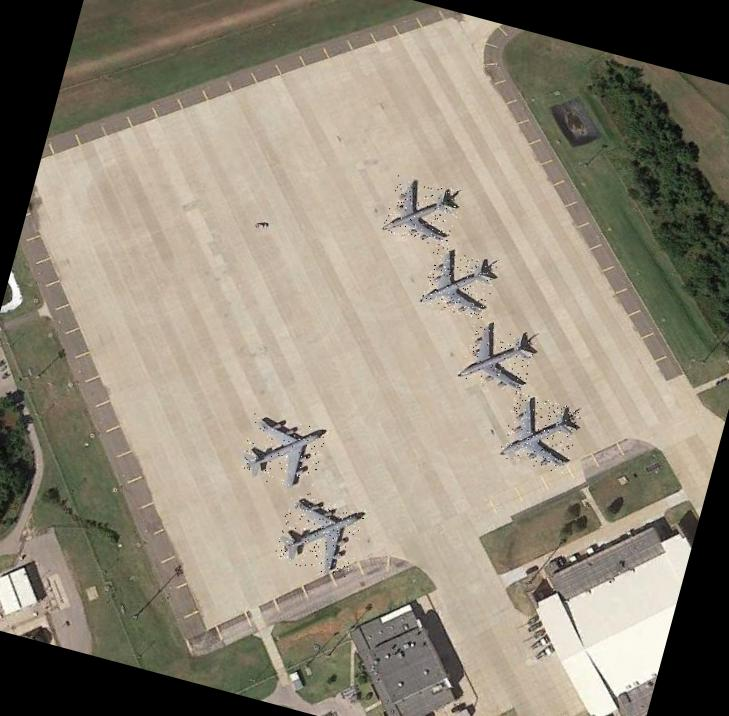A14: (273, 492, 366, 580), (237, 412, 327, 495), (498, 391, 582, 475), (381, 175, 463, 250), (458, 320, 538, 394), (419, 248, 498, 320)
